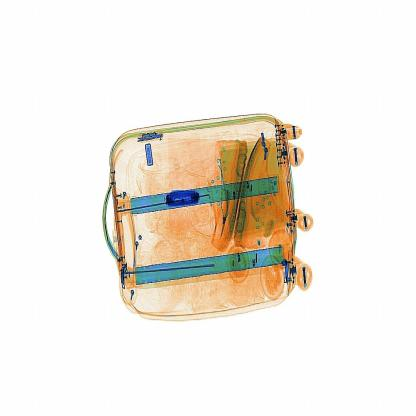scissors: (160, 186, 208, 212)
